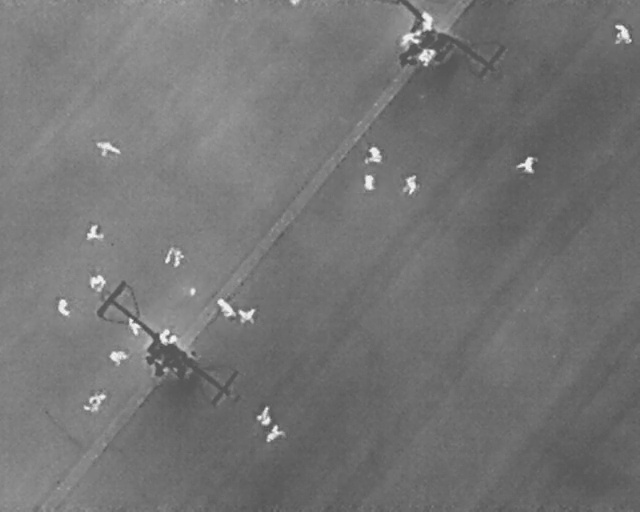Person: (213, 294, 238, 320), (396, 28, 423, 50), (614, 20, 633, 47), (415, 45, 437, 68), (82, 393, 108, 412), (515, 154, 537, 175), (165, 243, 183, 268), (94, 140, 120, 157), (159, 327, 178, 347), (256, 404, 272, 427), (266, 423, 284, 443), (85, 223, 105, 240), (108, 349, 129, 365), (403, 175, 418, 197), (89, 274, 106, 292), (126, 318, 142, 337), (56, 297, 70, 318), (238, 307, 255, 324), (421, 10, 433, 32), (366, 147, 382, 163), (363, 174, 375, 190)
